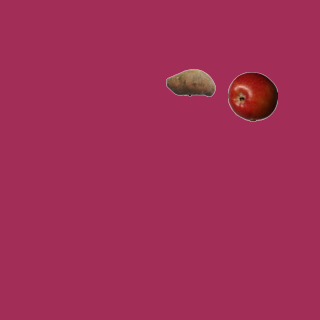Apple Braeburn: (227, 71, 277, 121)
Potato Sweet: (165, 57, 215, 107)
